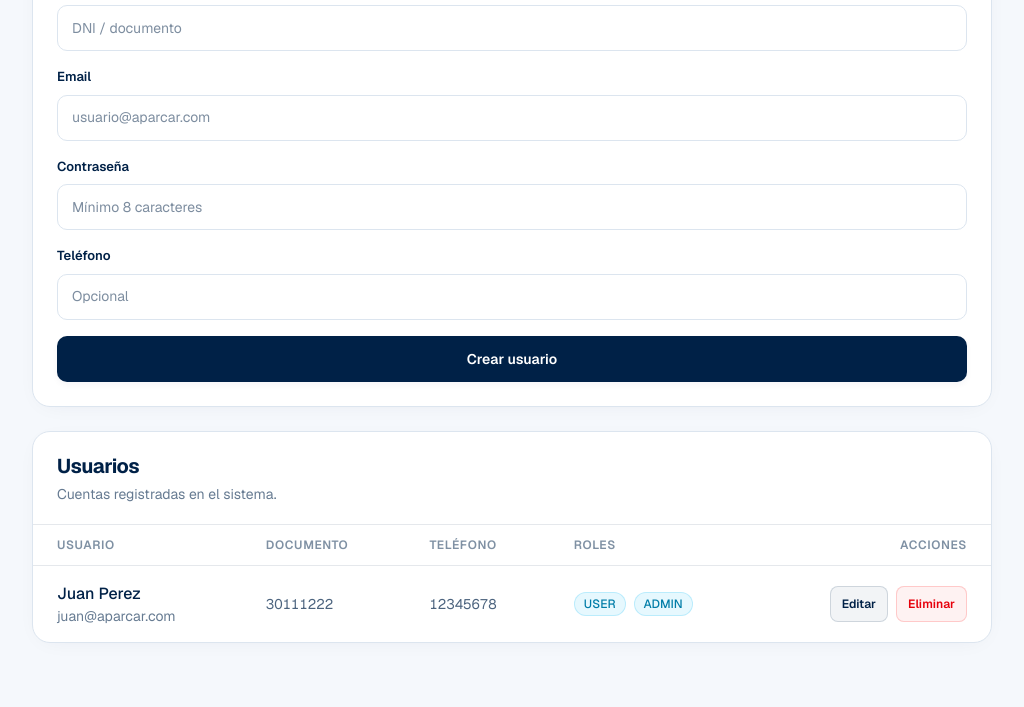
Test: UserManagement › al editar, precarga nombre, telefono y los roles marcados
(page scrolled)
Expected: the text "Juan Perez" is shown, [57,582,141,604]
Click the button "Editar" at coordinates (859, 604), box [830,586,888,622]
(page scrolled)
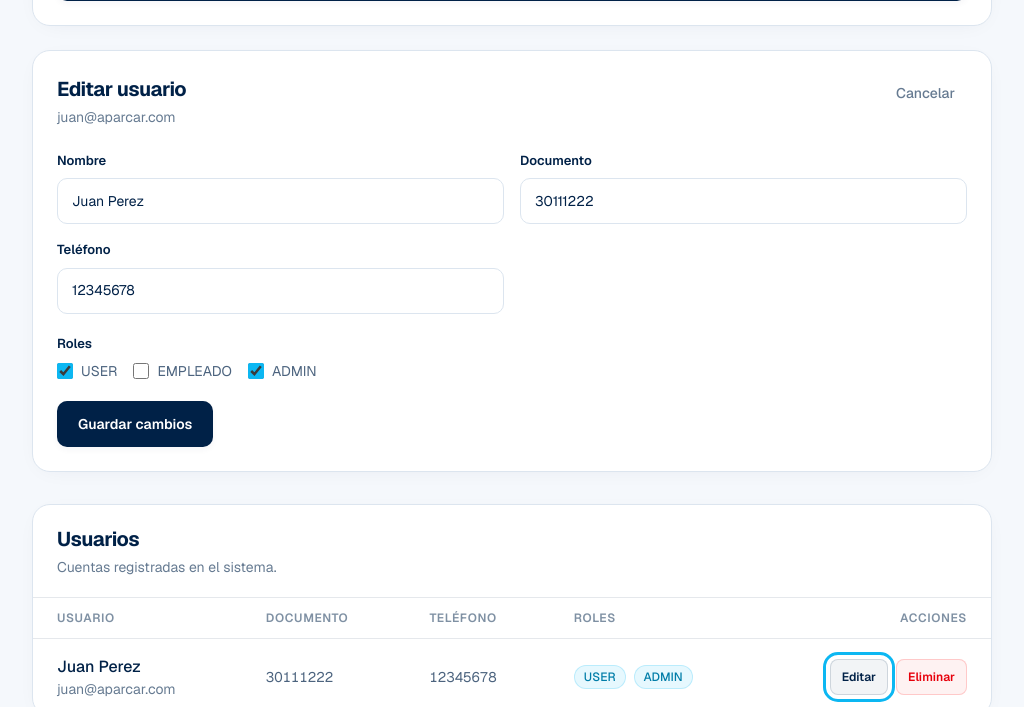
Now the field showing "Juan Perez" is shown, box [57,178,504,224]
Now the field showing "12345678" is shown, box [57,268,504,314]
Now the checkbox labelled "USER" is checked, box [57,363,73,379]
